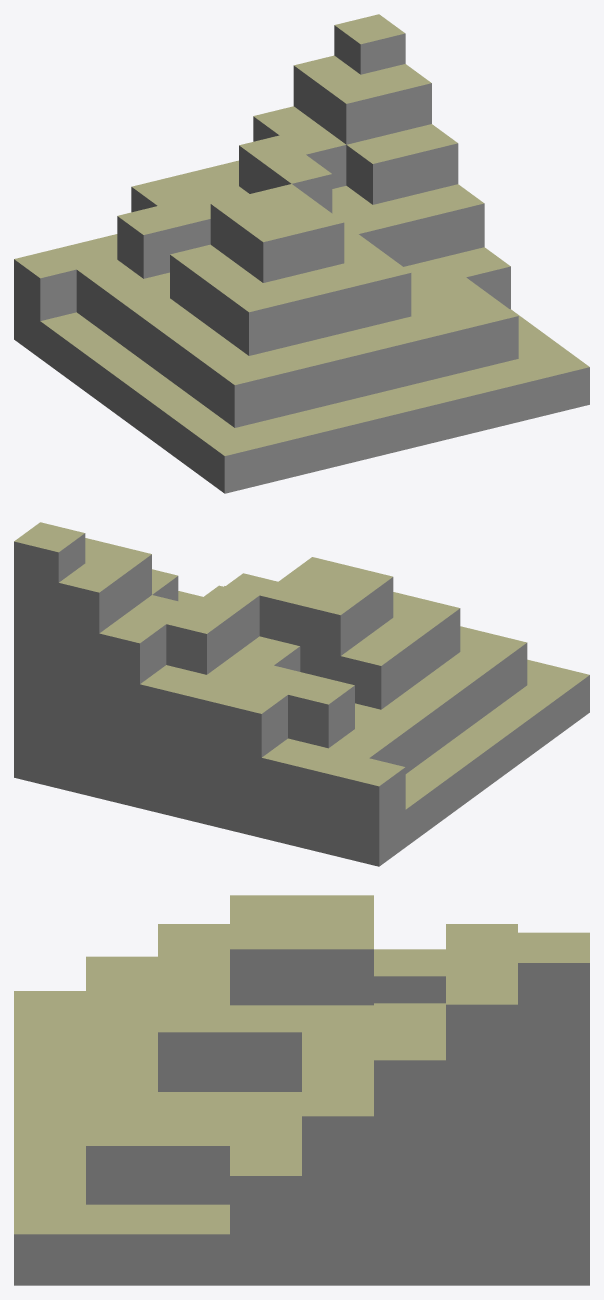
The model's file is landFall.fbx.
The picture shows the model from 3 angles, top to bottom: view 1: azimuth 30°, elevation 25°; view 2: azimuth 150°, elevation 25°; view 3: azimuth 270°, elevation 25°; orthographic projection. The views are drawn at different scales.
Parts seen in each view (by area): view 1: Cube; view 2: Cube; view 3: Cube.
Boxes of the visible parts, left/top/right/bottom form: Cube: left=14, top=14, right=589, bottom=493; Cube: left=14, top=522, right=589, bottom=866; Cube: left=14, top=895, right=589, bottom=1285.
Size of the model in its own units: 200 by 124 by 200.
